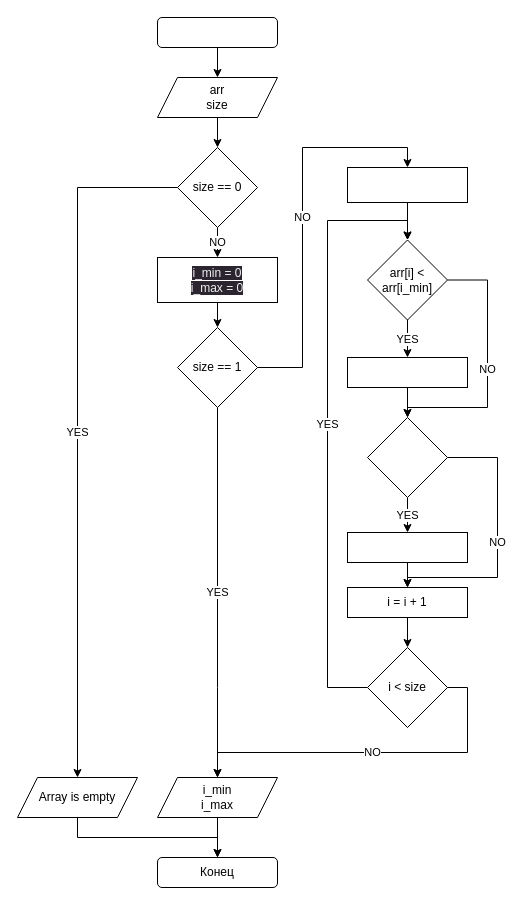
Image size: 523x905. Some labels were removed from this diagram. Here are the shapes that lost their labels. From the top down, the centre of each, then its label:
(x=217, y=32): Начало
(x=407, y=184): i = 1
(x=407, y=372): i_min = i
(x=407, y=457): arr[i] > arr[i_max]
(x=407, y=547): i_max = i
